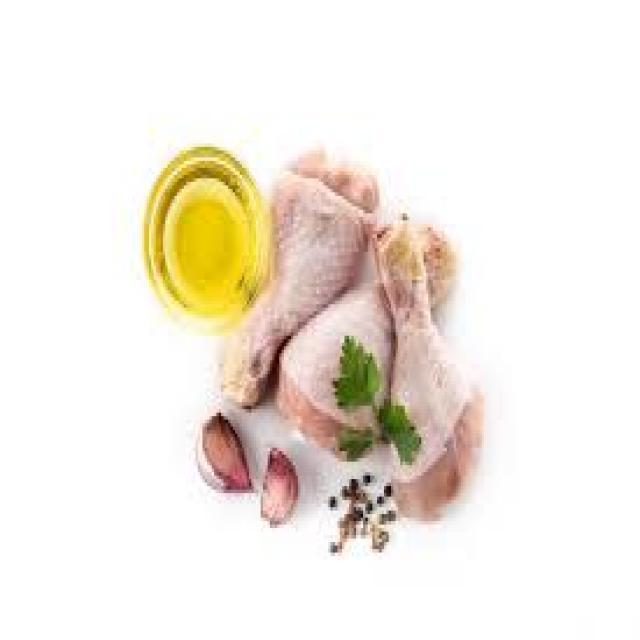leg: (233, 136, 370, 404), (290, 222, 449, 439), (376, 228, 484, 520)
